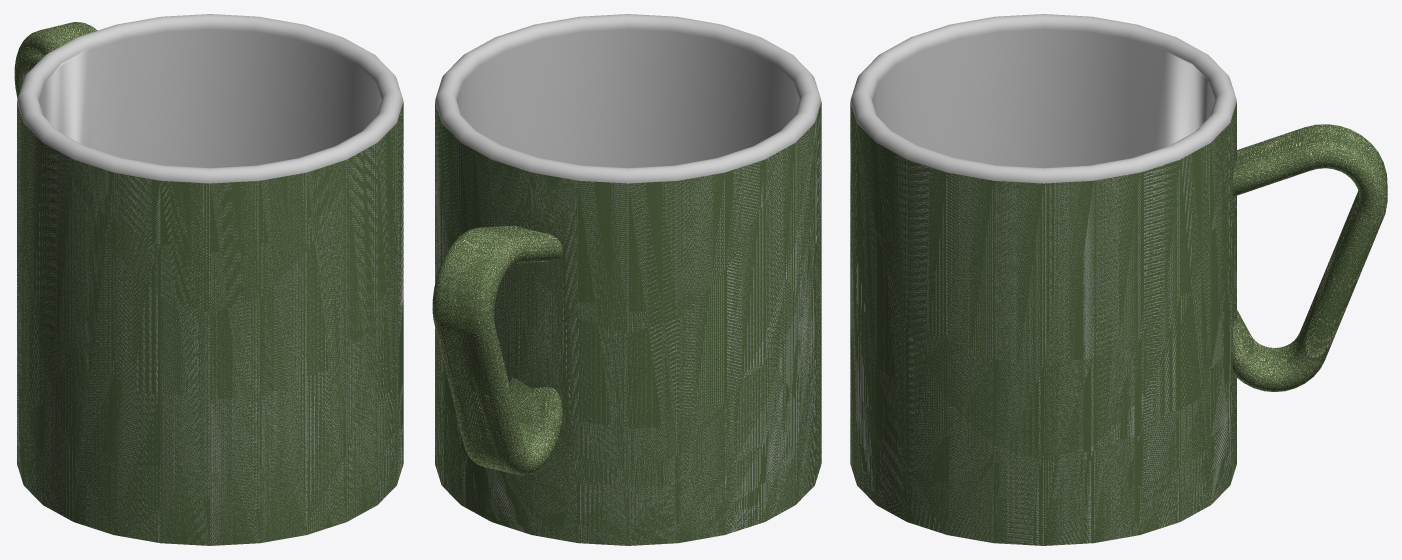
3 renders of one model, left to right at view 1: azimuth 30°, elevation 25°; view 2: azimuth 150°, elevation 25°; view 3: azimuth 270°, elevation 25°, orthographic.
Parts seen in each view (by area): view 1: mesh1_mesh1-geometry; view 2: mesh1_mesh1-geometry; view 3: mesh1_mesh1-geometry.
Part boxes in pixels (left/top/right/bottom): mesh1_mesh1-geometry: left=14, top=14, right=403, bottom=545; mesh1_mesh1-geometry: left=432, top=14, right=821, bottom=545; mesh1_mesh1-geometry: left=850, top=14, right=1387, bottom=545.
Bounding box in the file's own units: 0.4962 × 0.5274 × 0.6896.
